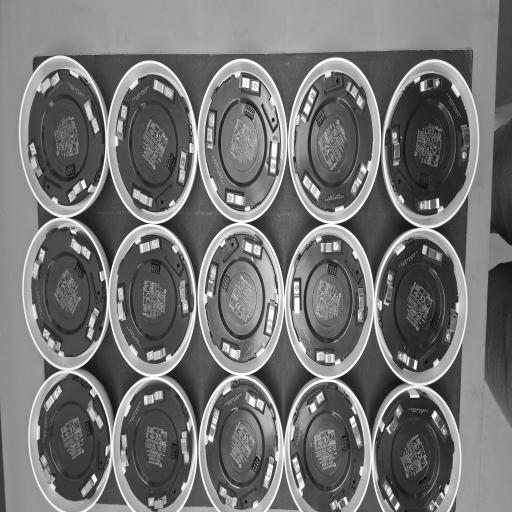yayli: (297, 85, 319, 125), (350, 162, 368, 199), (302, 172, 322, 205), (431, 408, 450, 440), (386, 403, 404, 436), (348, 79, 366, 112), (84, 99, 100, 136), (28, 142, 44, 178), (244, 389, 266, 415), (425, 485, 446, 512), (87, 398, 104, 431), (263, 301, 278, 338), (70, 236, 91, 262), (382, 480, 400, 510), (43, 384, 62, 412), (291, 454, 305, 492), (40, 452, 56, 484), (153, 79, 175, 102), (224, 188, 247, 210), (39, 72, 60, 96), (221, 338, 242, 362), (444, 308, 458, 344), (67, 179, 87, 204), (267, 138, 280, 176), (206, 262, 219, 299), (305, 390, 325, 414), (218, 484, 238, 508), (86, 308, 100, 342), (42, 327, 61, 352), (80, 472, 98, 498), (116, 104, 128, 142), (207, 408, 220, 443), (32, 248, 46, 280), (383, 270, 395, 306), (263, 454, 275, 490), (242, 237, 262, 258), (397, 350, 418, 370), (421, 244, 443, 263), (391, 126, 401, 167), (351, 415, 363, 449), (133, 188, 153, 208), (420, 76, 442, 94), (178, 150, 189, 185), (206, 112, 216, 150), (239, 76, 260, 94), (460, 125, 470, 162), (417, 198, 440, 214), (180, 279, 190, 315), (138, 238, 160, 254), (120, 434, 129, 471), (330, 494, 348, 512), (144, 389, 163, 406), (146, 346, 166, 362), (148, 494, 168, 510), (117, 286, 126, 321), (315, 350, 336, 365), (320, 240, 342, 254), (181, 432, 190, 464), (357, 288, 365, 324), (293, 280, 301, 316)
